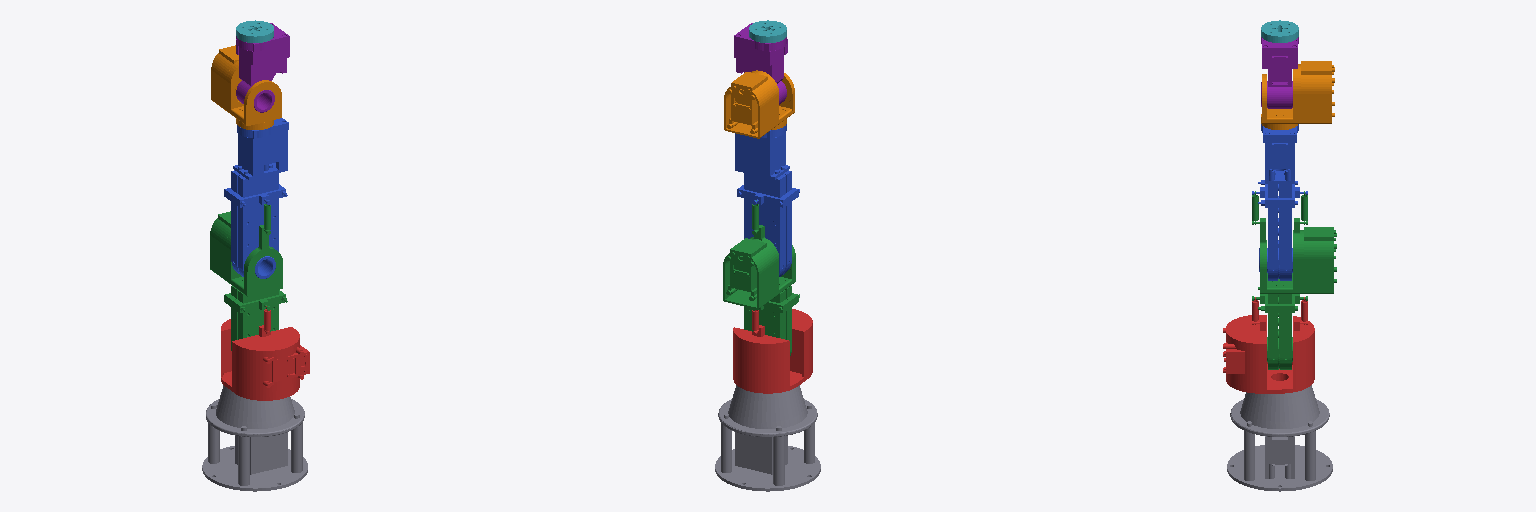
URDF robot description (arm450_rev_i):
<?xml version="1.0"?>
<robot name="arm450_rev_i">
  <!-- generated from the verified rev-I assembly; mm -> m; home = arm straight up -->
  <material name="m_ground"><color rgba="0.55 0.55 0.6 1"/></material>
  <link name="ground">
    <visual><geometry><mesh filename="package://arm450_rev_i_view/meshes/ground.stl"/></geometry><material name="m_ground"/></visual>
  </link>
  <material name="m_turret"><color rgba="0.85 0.25 0.25 1"/></material>
  <link name="turret">
    <visual><geometry><mesh filename="package://arm450_rev_i_view/meshes/turret.stl"/></geometry><material name="m_turret"/></visual>
  </link>
  <material name="m_upper_link"><color rgba="0.2 0.6 0.3 1"/></material>
  <link name="upper_link">
    <visual><geometry><mesh filename="package://arm450_rev_i_view/meshes/upper_link.stl"/></geometry><material name="m_upper_link"/></visual>
  </link>
  <material name="m_forearm"><color rgba="0.25 0.4 0.85 1"/></material>
  <link name="forearm">
    <visual><geometry><mesh filename="package://arm450_rev_i_view/meshes/forearm.stl"/></geometry><material name="m_forearm"/></visual>
  </link>
  <material name="m_j4_hub"><color rgba="0.9 0.55 0.1 1"/></material>
  <link name="j4_hub">
    <visual><geometry><mesh filename="package://arm450_rev_i_view/meshes/j4_hub.stl"/></geometry><material name="m_j4_hub"/></visual>
  </link>
  <material name="m_blade"><color rgba="0.6 0.2 0.7 1"/></material>
  <link name="blade">
    <visual><geometry><mesh filename="package://arm450_rev_i_view/meshes/blade.stl"/></geometry><material name="m_blade"/></visual>
  </link>
  <material name="m_flange"><color rgba="0.3 0.7 0.75 1"/></material>
  <link name="flange">
    <visual><geometry><mesh filename="package://arm450_rev_i_view/meshes/flange.stl"/></geometry><material name="m_flange"/></visual>
  </link>
  <joint name="J1_base_yaw" type="revolute">
    <parent link="ground"/><child link="turret"/>
    <origin xyz="0.000000 0.000000 -0.014311" rpy="0 0 0"/>
    <axis xyz="0.000000 -0.000000 -1.000000"/>
    <limit lower="-1.57080" upper="1.57080" effort="2.9" velocity="4.0"/>
  </joint>
  <joint name="J2_shoulder" type="revolute">
    <parent link="turret"/><child link="upper_link"/>
    <origin xyz="0.000000 -0.028500 0.104311" rpy="0 0 0"/>
    <axis xyz="0.000000 -1.000000 0.000000"/>
    <limit lower="-0.94248" upper="0.94248" effort="2.9" velocity="4.0"/>
  </joint>
  <joint name="J3_elbow" type="revolute">
    <parent link="upper_link"/><child link="forearm"/>
    <origin xyz="0.000000 0.057000 0.119000" rpy="0 0 0"/>
    <axis xyz="0.000000 1.000000 0.000000"/>
    <limit lower="-1.25664" upper="1.25664" effort="2.9" velocity="4.0"/>
  </joint>
  <joint name="J4_forearm_roll" type="revolute">
    <parent link="forearm"/><child link="j4_hub"/>
    <origin xyz="0.000000 -0.028500 0.169589" rpy="0 0 0"/>
    <axis xyz="0.000000 -0.000000 -1.000000"/>
    <limit lower="-1.57080" upper="1.57080" effort="2.9" velocity="4.0"/>
  </joint>
  <joint name="J5_wrist_pitch" type="revolute">
    <parent link="j4_hub"/><child link="blade"/>
    <origin xyz="0.000000 0.026000 0.051780" rpy="0 0 0"/>
    <axis xyz="0.000000 1.000000 0.000000"/>
    <limit lower="-0.81158" upper="0.81158" effort="2.9" velocity="4.0"/>
  </joint>
  <joint name="J6_tool_roll" type="revolute">
    <parent link="blade"/><child link="flange"/>
    <origin xyz="0.000000 -0.026000 0.064589" rpy="0 0 0"/>
    <axis xyz="-0.000000 -0.000000 -1.000000"/>
    <limit lower="-1.57080" upper="1.57080" effort="2.9" velocity="4.0"/>
  </joint>
</robot>

--- Render facts (derived) ---
Views: 3 orthographic renders of the robot side by side, from view 1: azimuth 30°, elevation 25°; view 2: azimuth 150°, elevation 25°; view 3: azimuth 270°, elevation 25°.
Robot: arm450_rev_i — 7 links, 6 joints (6 revolute); root link ground; default pose: all joints at 0.
Visible links, largest first — view 1: ground, forearm, turret, upper_link, j4_hub, blade, flange; view 2: ground, upper_link, forearm, turret, j4_hub, blade, flange; view 3: ground, upper_link, turret, forearm, j4_hub, blade, flange.
Boxes of the visible links, x1,y1,x2,y2 form: ground: (202, 385, 307, 491); forearm: (224, 118, 288, 278); turret: (221, 306, 309, 400); upper_link: (210, 204, 287, 350); j4_hub: (211, 45, 281, 129); blade: (236, 23, 289, 112); flange: (236, 20, 273, 42); ground: (715, 385, 820, 491); upper_link: (723, 200, 799, 355); forearm: (735, 124, 799, 276); turret: (733, 309, 812, 393); j4_hub: (724, 70, 794, 138); blade: (734, 23, 787, 104); flange: (749, 20, 786, 42); ground: (1227, 385, 1332, 491); upper_link: (1252, 191, 1336, 369); turret: (1223, 297, 1314, 393); forearm: (1252, 124, 1307, 280); j4_hub: (1261, 61, 1334, 129); blade: (1261, 37, 1298, 108); flange: (1261, 20, 1298, 42).
Bounding box of the posed robot: 0.128 × 0.1378 × 0.5884 m (x, y, z).
7 mesh visuals loaded from 7 distinct referenced files (7 binary STL).
